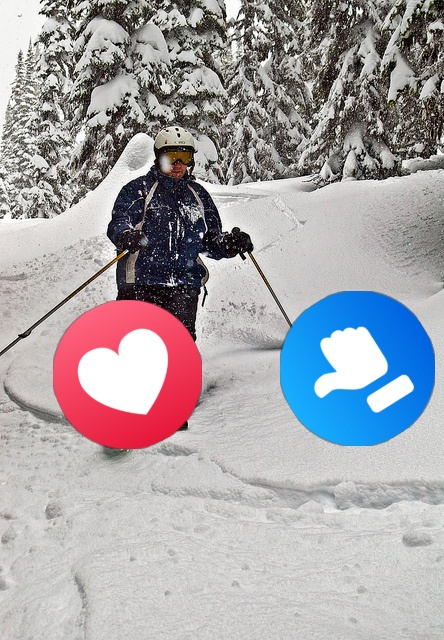like: (280, 291, 435, 446)
love: (53, 300, 202, 449)
